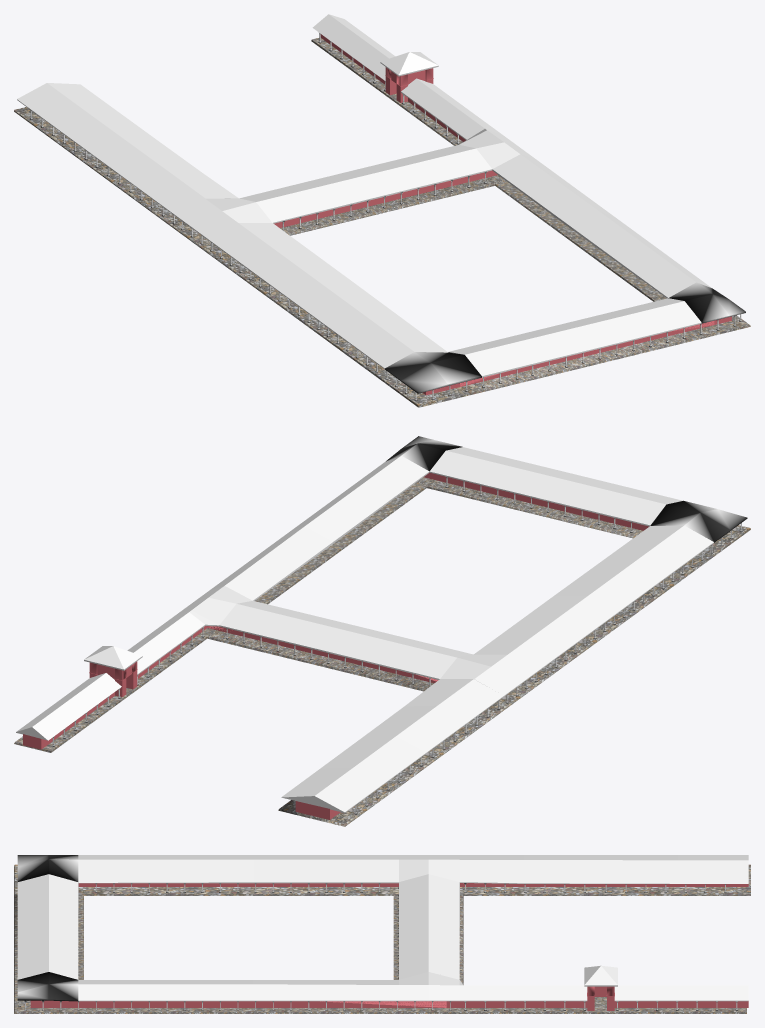
The model's file is Colegio.fbx.
3 renders of one model, top to bottom at view 1: azimuth 30°, elevation 25°; view 2: azimuth 150°, elevation 25°; view 3: azimuth 270°, elevation 25°, orthographic. The views are drawn at different scales.
Parts seen in each view (by area): view 1: Cube.036, Cube.001, Cube.014, Cube.012, Cube.040, Chao.003, Chao.004, Cube.003, Cube.038, Chao.002, Cube.037, Cube.013 (+1 smaller); view 2: Cube.036, Cube.001, Cube.014, Cube.012, Cube.040, Chao.003, Cube.003, Chao.004, Chao.002, Cube.037, Cube.038, Cube.013 (+2 smaller); view 3: Cube.036, Cube.001, Cube.014, Cube.040, Cube.012, Chao.003, Chao.002, Cube.003, Cube.037, Cube.038, Cube.015, Cube.004 (+6 smaller).
Part boxes in pixels (x1,y1,x2,y2): Cube.036: [209, 223, 447, 368]; Cube.001: [17, 83, 238, 215]; Cube.014: [492, 154, 711, 298]; Cube.012: [239, 145, 492, 223]; Cube.040: [448, 298, 701, 377]; Chao.003: [14, 107, 484, 407]; Chao.004: [280, 175, 713, 391]; Cube.003: [312, 14, 502, 143]; Cube.038: [385, 282, 745, 393]; Chao.002: [311, 38, 750, 337]; Cube.037: [175, 130, 535, 240]; Cube.013: [274, 170, 714, 386]; Cube.036: [474, 525, 713, 671]; Cube.001: [281, 679, 503, 812]; Cube.014: [209, 455, 429, 600]; Cube.012: [219, 600, 473, 679]; Cube.040: [429, 447, 682, 526]; Chao.003: [278, 525, 750, 826]; Cube.003: [16, 610, 219, 740]; Chao.004: [207, 477, 642, 691]; Chao.002: [14, 477, 426, 752]; Cube.037: [176, 586, 537, 696]; Cube.038: [386, 436, 747, 542]; Cube.013: [207, 472, 649, 683]; Cube.036: [78, 855, 398, 883]; Cube.001: [459, 855, 748, 883]; Cube.014: [78, 980, 398, 1001]; Cube.040: [17, 874, 78, 979]; Cube.012: [399, 874, 459, 979]; Chao.003: [14, 864, 750, 895]; Chao.002: [14, 992, 746, 1013]; Cube.003: [459, 980, 748, 1001]; Cube.037: [399, 855, 459, 1001]; Cube.038: [17, 855, 78, 1001]; Cube.015: [30, 1000, 446, 1007]; Cube.004: [446, 1001, 748, 1007].
Bounding box in the file's own units: 5534 × 689 × 11642.
